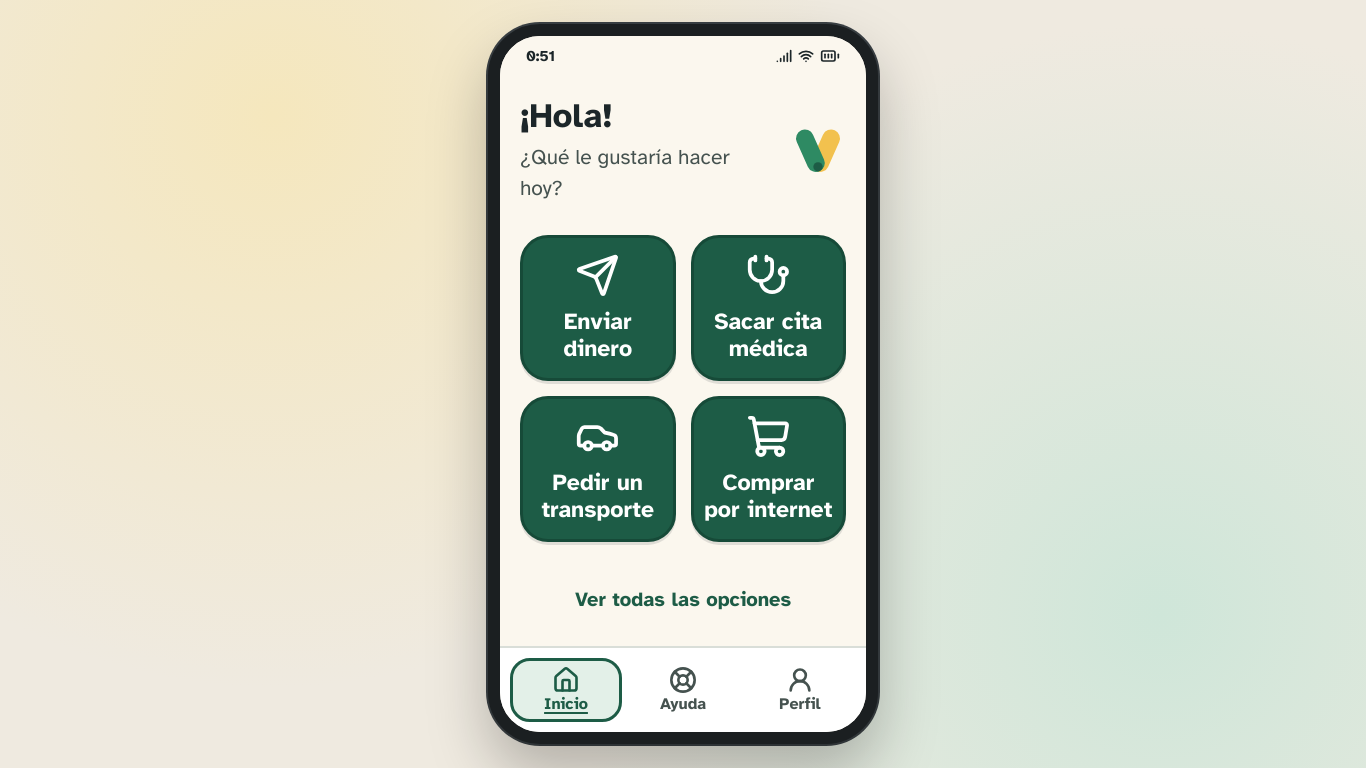
Test: pantalla 8: inicio simplificado › cada botón abre la guía paso a paso
Click the link "Sacar cita médica": (768, 308) left=690, top=235, right=846, bottom=381
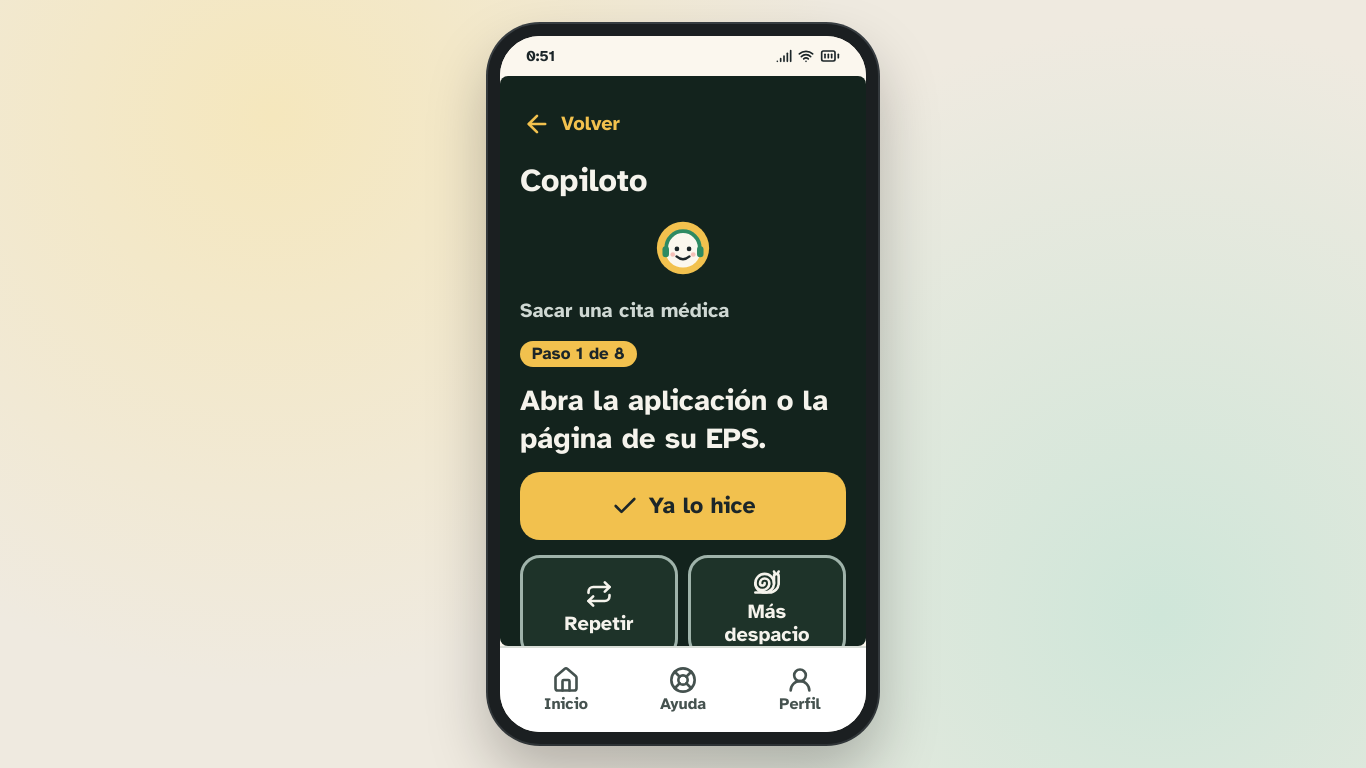
expect the text "Paso 1 de 8" is shown: met, box left=520, top=341, right=637, bottom=367
expect the heading "Abra la aplicación o la página de su EPS." is shown: met, box left=520, top=382, right=846, bottom=457
